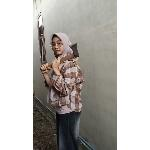Kapak: (45, 40, 81, 72)
